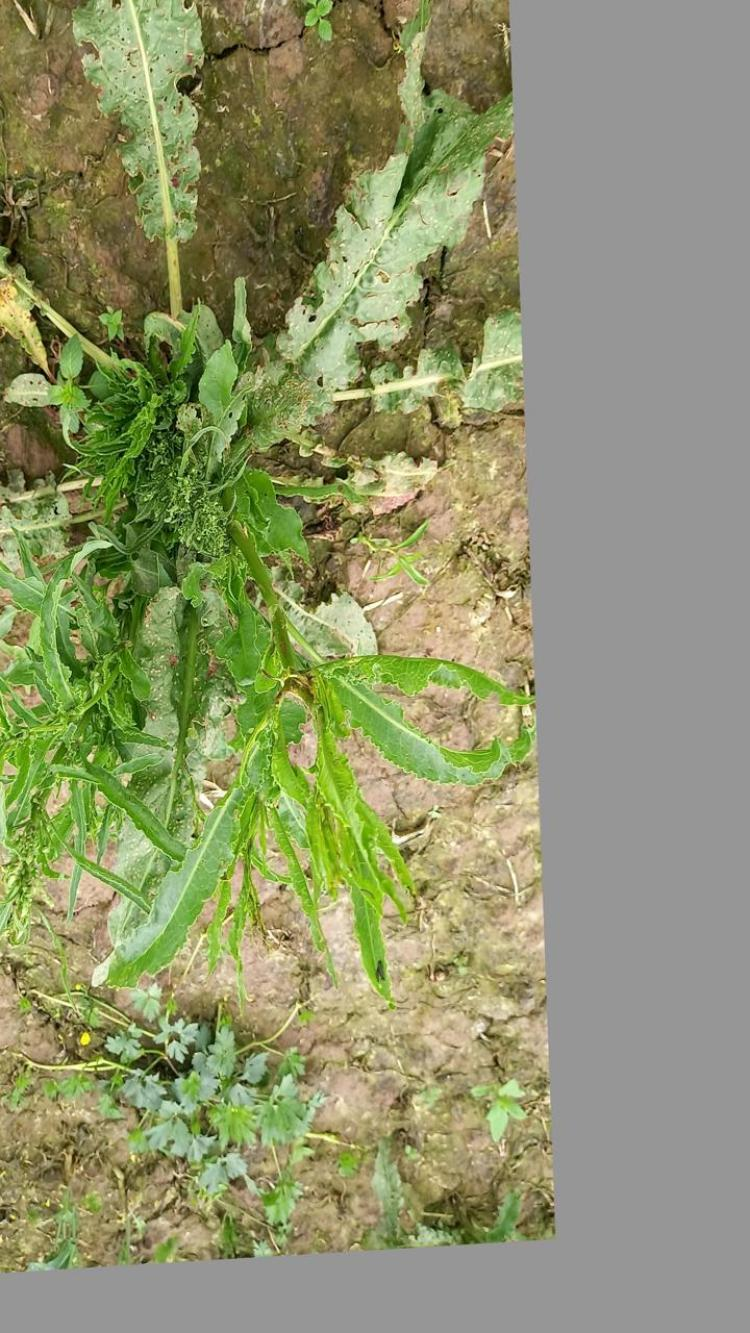zhavel: (0, 0, 546, 1016)
